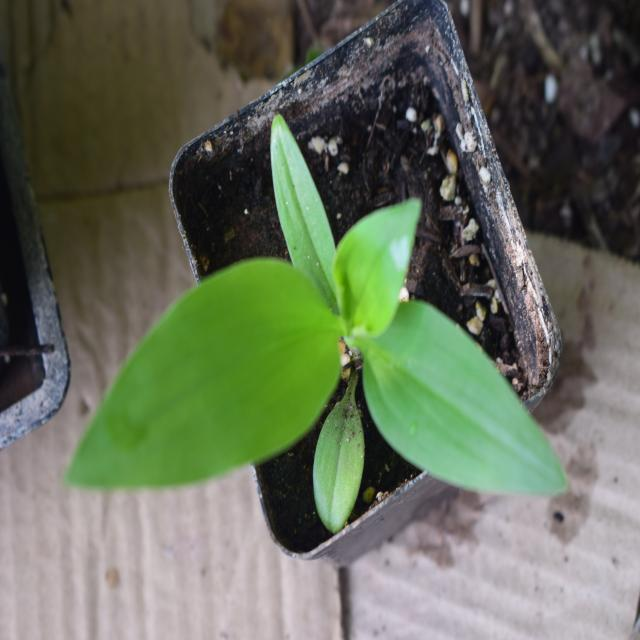Common Dayflower: (93, 184, 578, 530)
